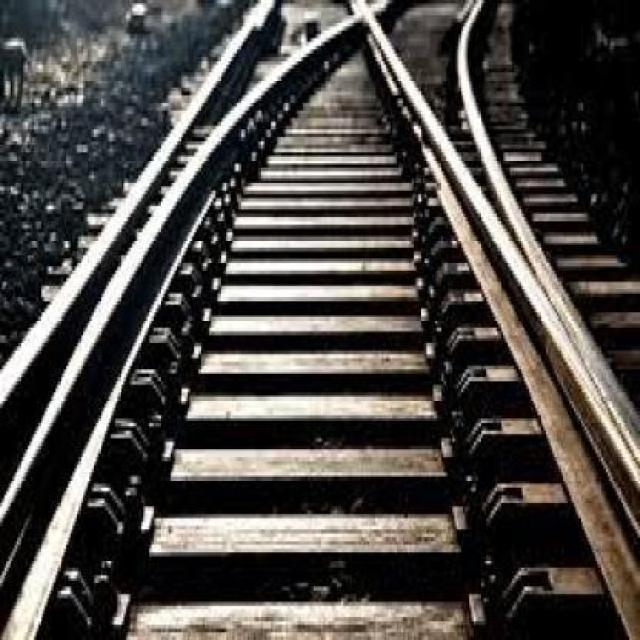rail: (2, 2, 640, 635)
